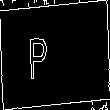P_N: (44, 29, 66, 81)
